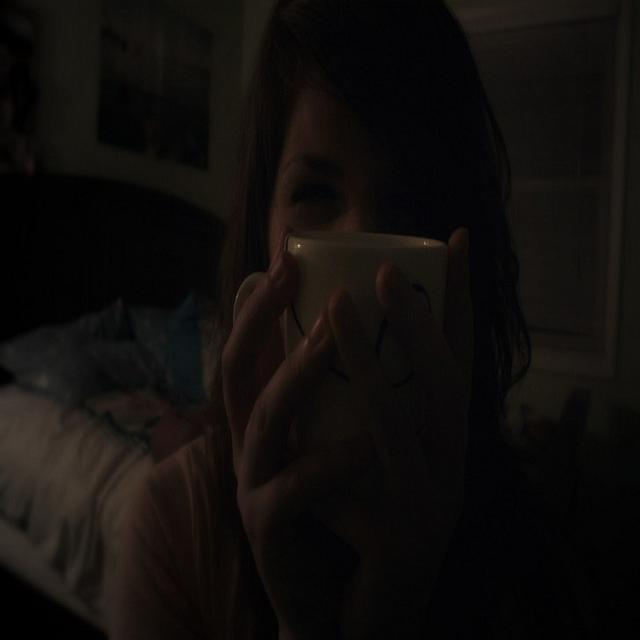Cup: (279, 205, 455, 443)
People: (185, 0, 602, 640)
